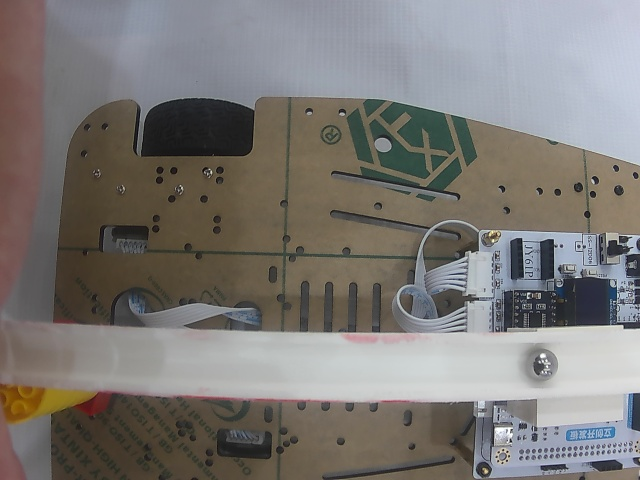steelball: (525, 349, 558, 381)
